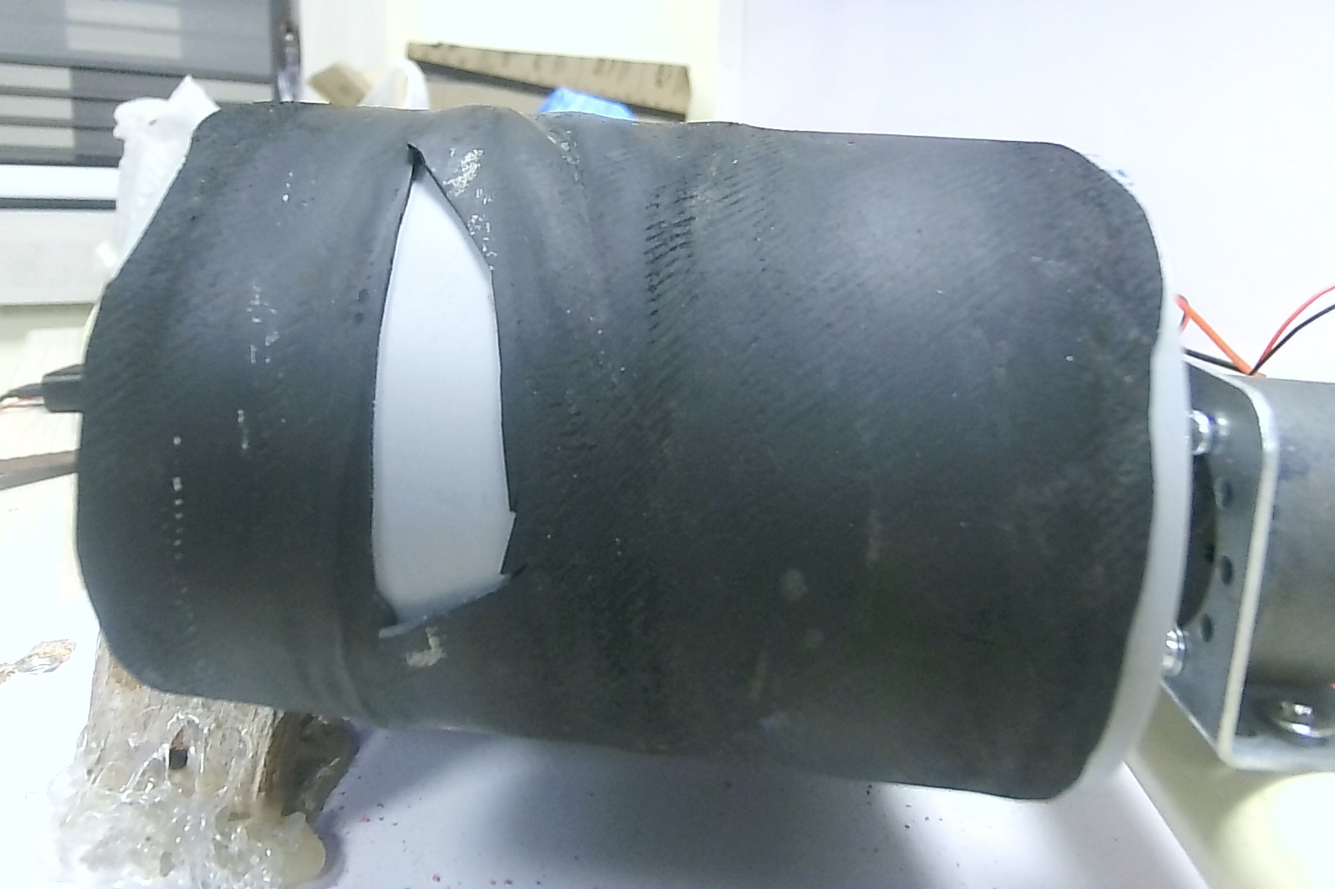hole: (390, 138, 526, 638)
